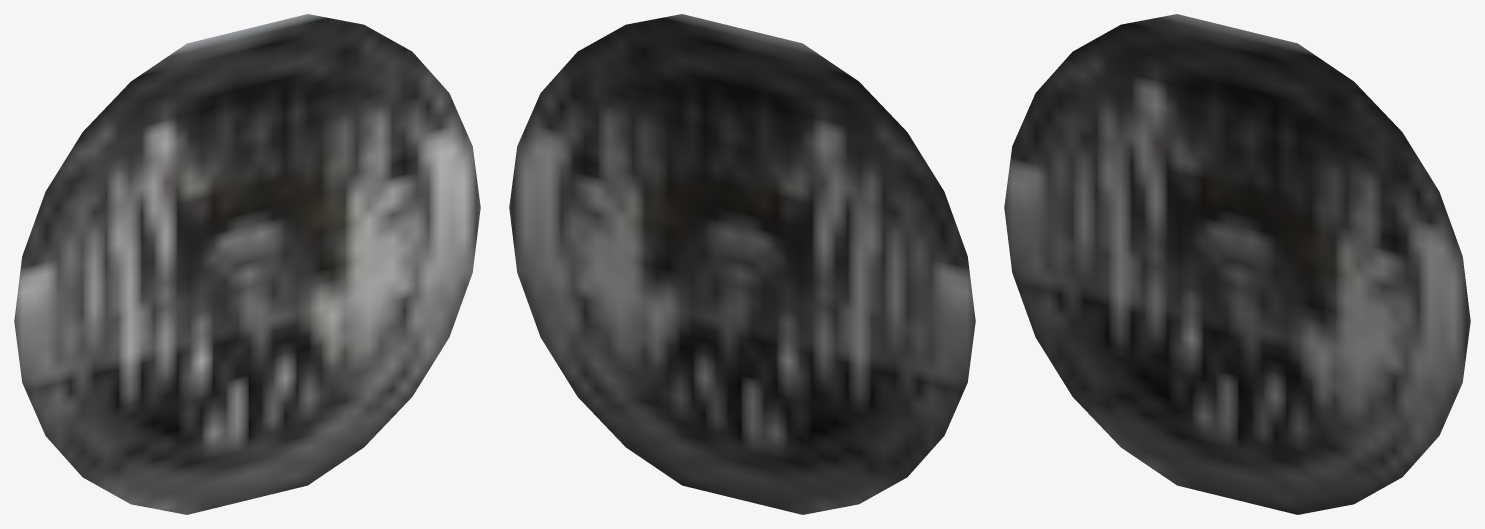
Rendered from right_front_light.fbx.
3 renders of one model, left to right at view 1: azimuth 30°, elevation 25°; view 2: azimuth 150°, elevation 25°; view 3: azimuth 330°, elevation 25°, orthographic.
Visible parts, largest first — view 1: Jeep_Renegade_2016.004; view 2: Jeep_Renegade_2016.004; view 3: Jeep_Renegade_2016.004.
Part boxes in pixels (<box>): Jeep_Renegade_2016.004: <box>14,14,480,514</box>; Jeep_Renegade_2016.004: <box>509,14,975,514</box>; Jeep_Renegade_2016.004: <box>1004,14,1470,514</box>.
Size of the model in its own units: 21.27 by 20.55 by 3.35e-06.
